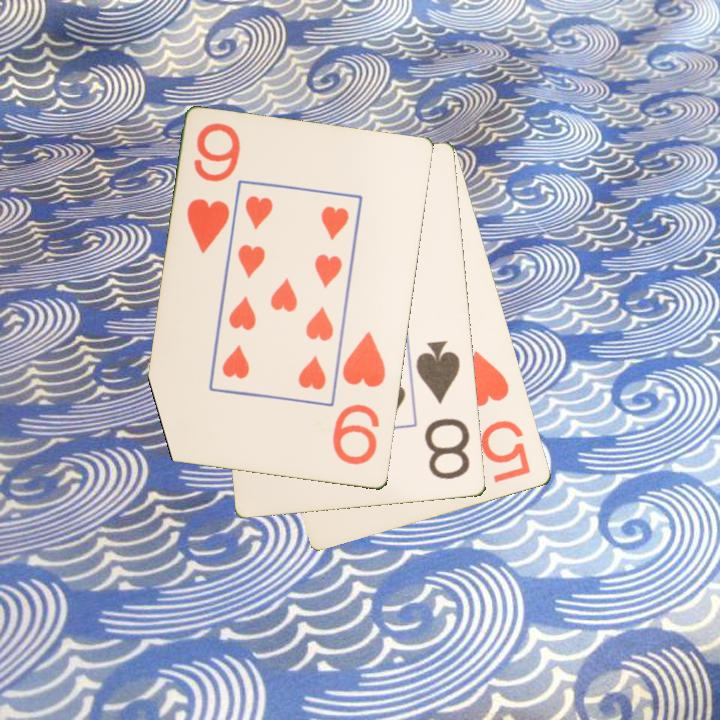5h: (462, 347, 534, 487)
8s: (413, 338, 474, 483)
9h: (329, 328, 389, 469), (183, 119, 243, 257)
